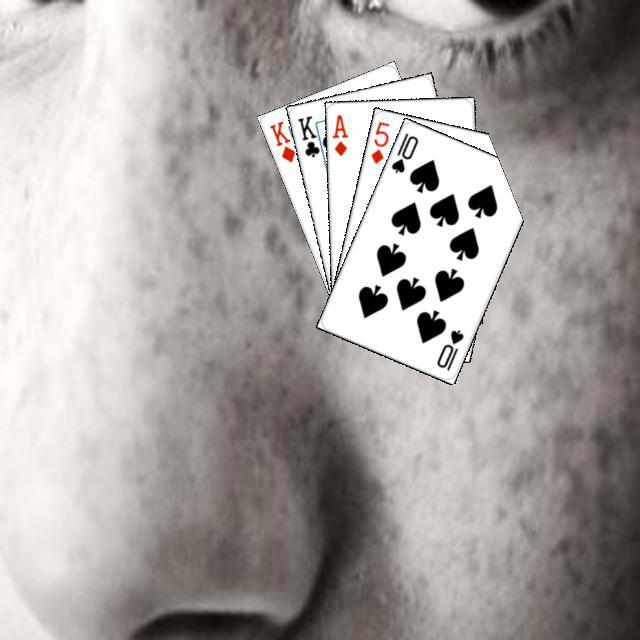10s: (386, 128, 420, 175), (432, 325, 465, 372)
5d: (366, 116, 391, 166)
Ad: (327, 109, 350, 158)
Kc: (292, 110, 326, 161)
Kd: (264, 116, 297, 164)
